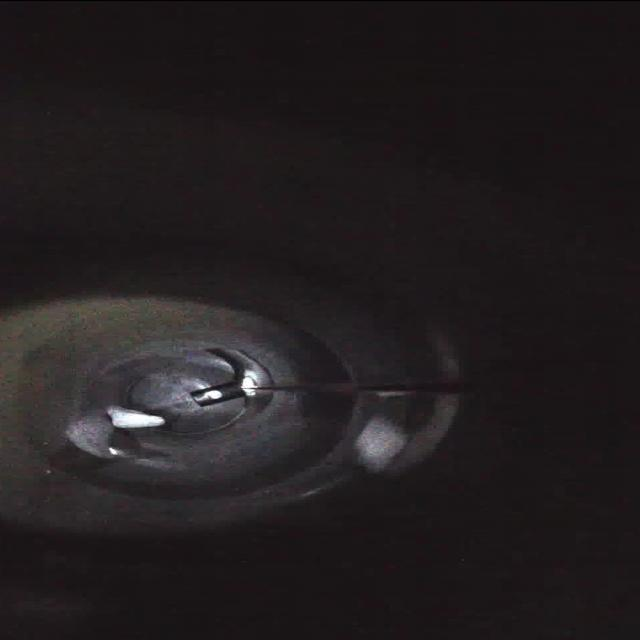impurity: (97, 402, 173, 436)
